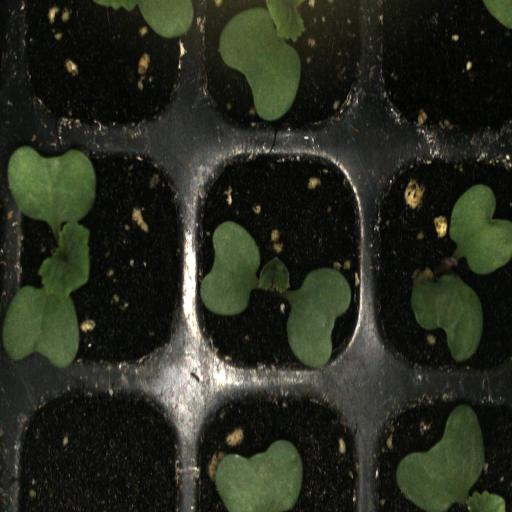seedling: (8, 142, 192, 382), (192, 140, 371, 377), (371, 138, 512, 376)
